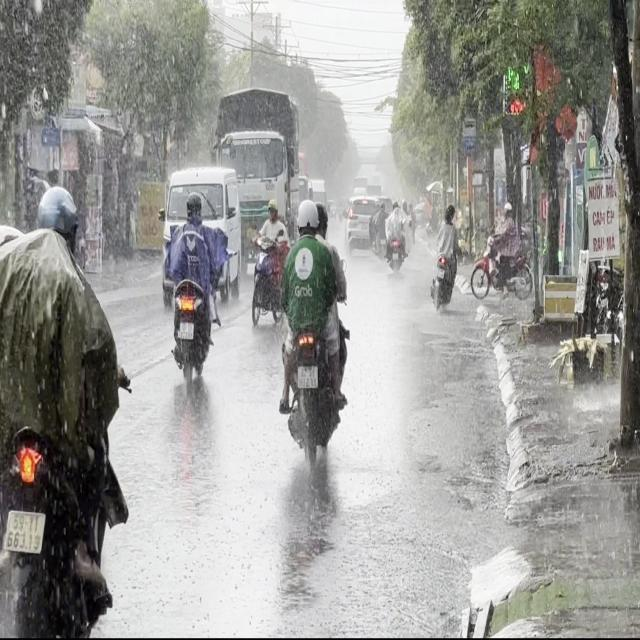helmet: (36, 184, 78, 248), (296, 198, 318, 235), (185, 190, 202, 219)
licenseplate: (0, 161, 133, 634), (274, 194, 351, 469), (165, 190, 218, 386)
nohelmet: (4, 510, 44, 551), (297, 364, 317, 387), (179, 322, 193, 338)
